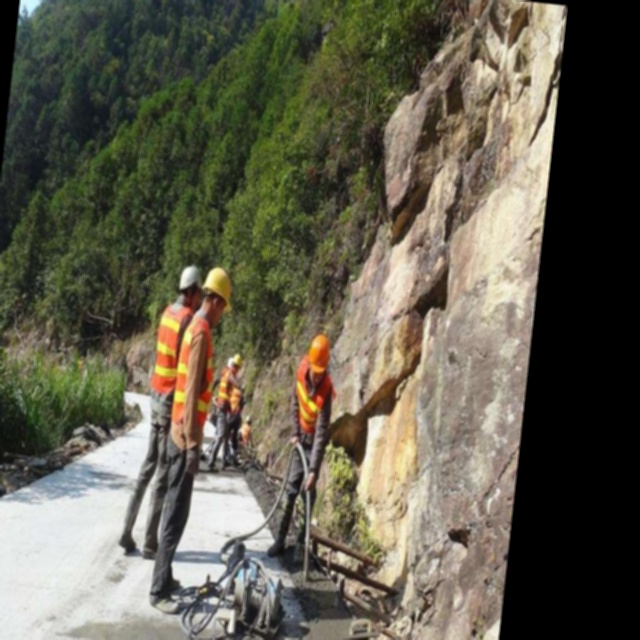Con_Casco: (200, 265, 236, 317), (176, 263, 204, 305)
Con_Chaleco: (166, 312, 224, 451), (148, 303, 196, 398)
